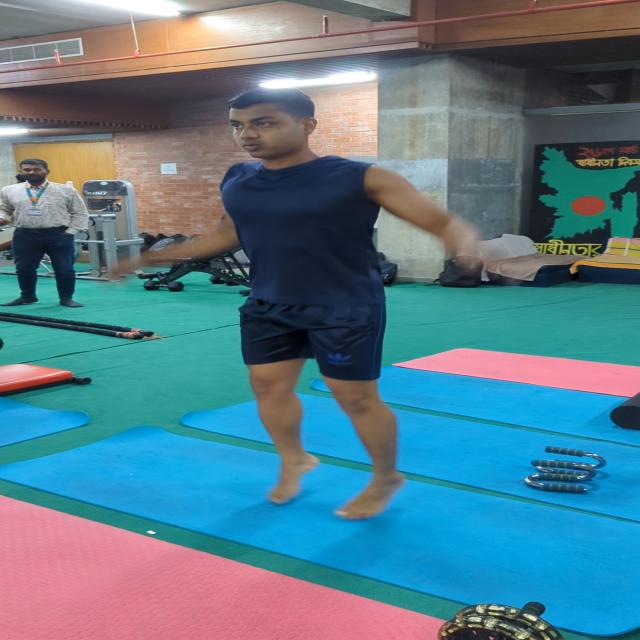Normal_JumpingJacks: (107, 89, 500, 527)
